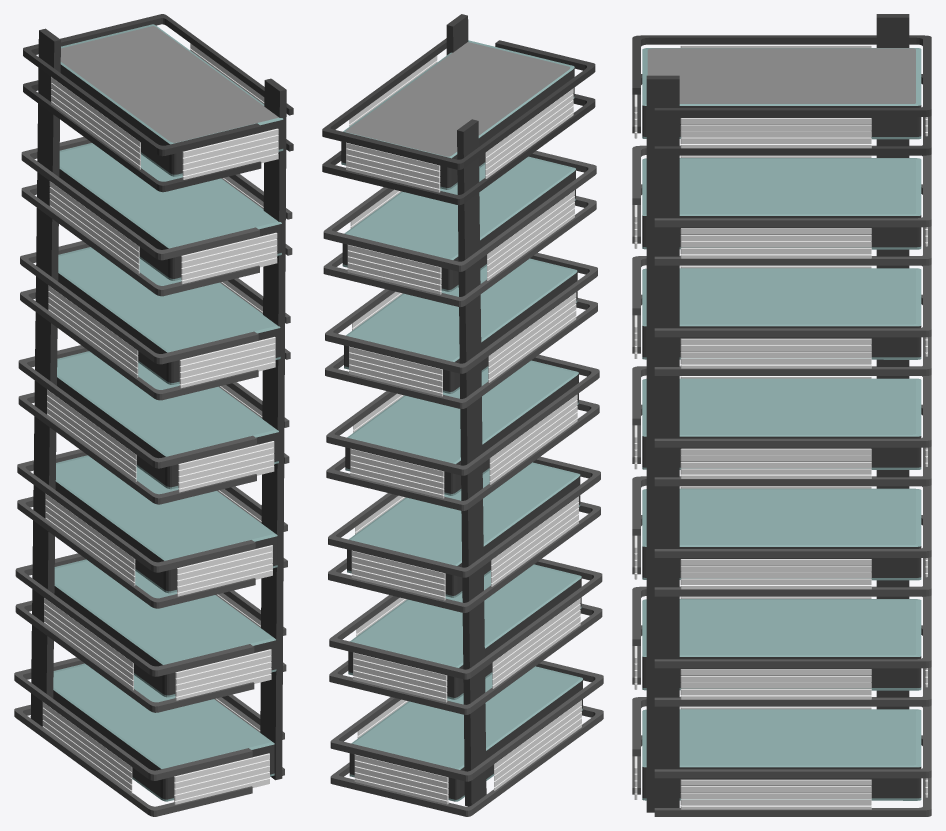
The picture shows the model from 3 angles, left to right: view 1: azimuth 30°, elevation 25°; view 2: azimuth 150°, elevation 25°; view 3: azimuth 270°, elevation 25°; orthographic projection. The views are drawn at different scales.
Visible parts, largest first — view 1: building_117; view 2: building_117; view 3: building_117.
Boxes of the visible parts, x1,y1,x2,y2 form: building_117: (14, 14, 293, 816); building_117: (322, 14, 603, 816); building_117: (632, 14, 931, 816).
Bounding box in the file's own units: 933 × 4047 × 1490.
